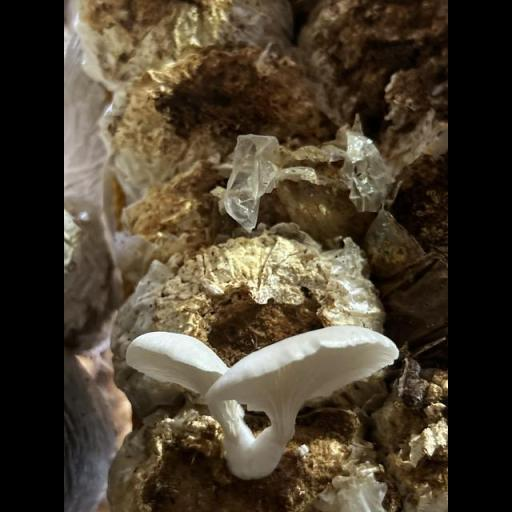White Oyster Mushroom: (126, 325, 396, 479)
